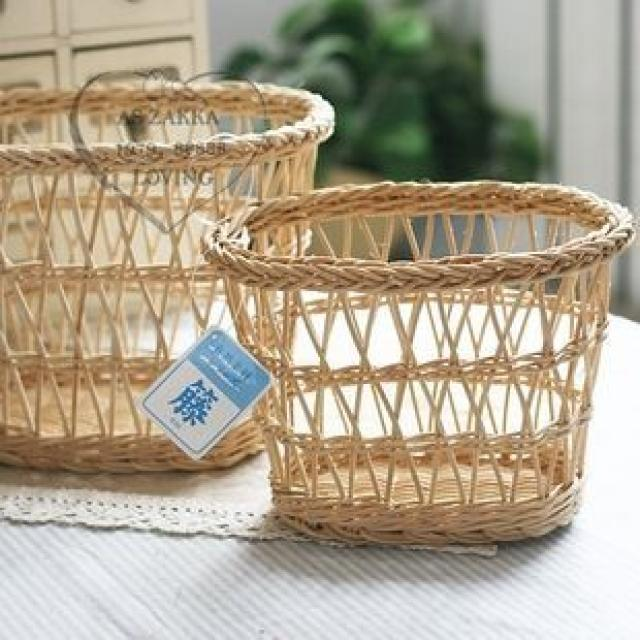dustbin: (193, 174, 640, 548), (1, 78, 337, 476)
